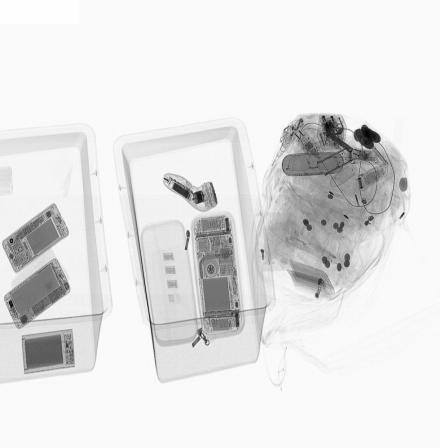Lighter: (292, 117, 304, 137)
